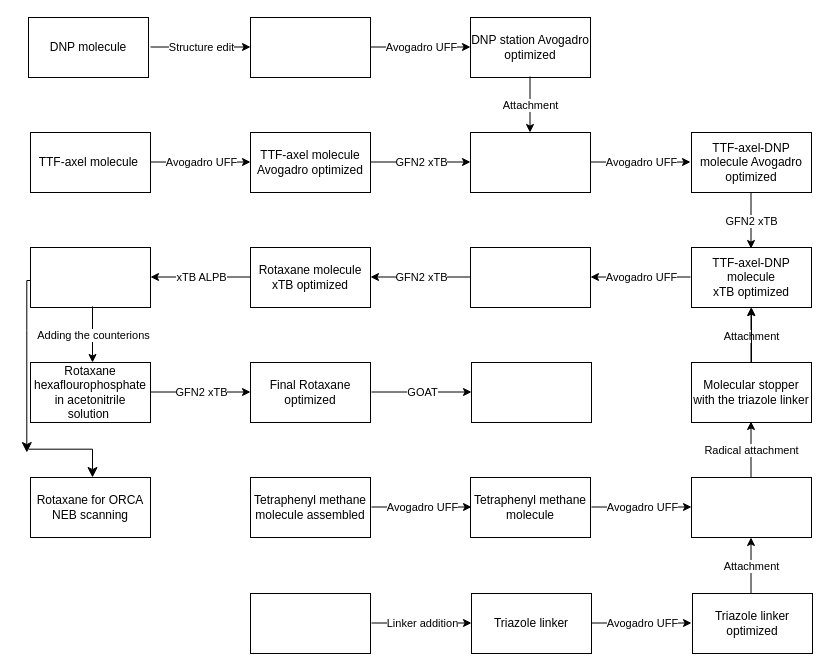
Image size: 830x671. Some labels were removed from this diagram. The shapes that lost their labels are listed below. From the top down, each one's centre as x and y in pixels, then its label:
[310,47]: DNP station
[530,162]: TTF-axel molecule xTB optimized
[90,277]: Rotaxane molecule in the acetonitrile solution
[530,277]: Rotaxane molecule Assembled Avogadro optimized
[531,392]: Conformers (Cancelled)
[751,507]: Tetraphenyl methane with triazole linker
[310,623]: 1,2,3 Triazole molecule
